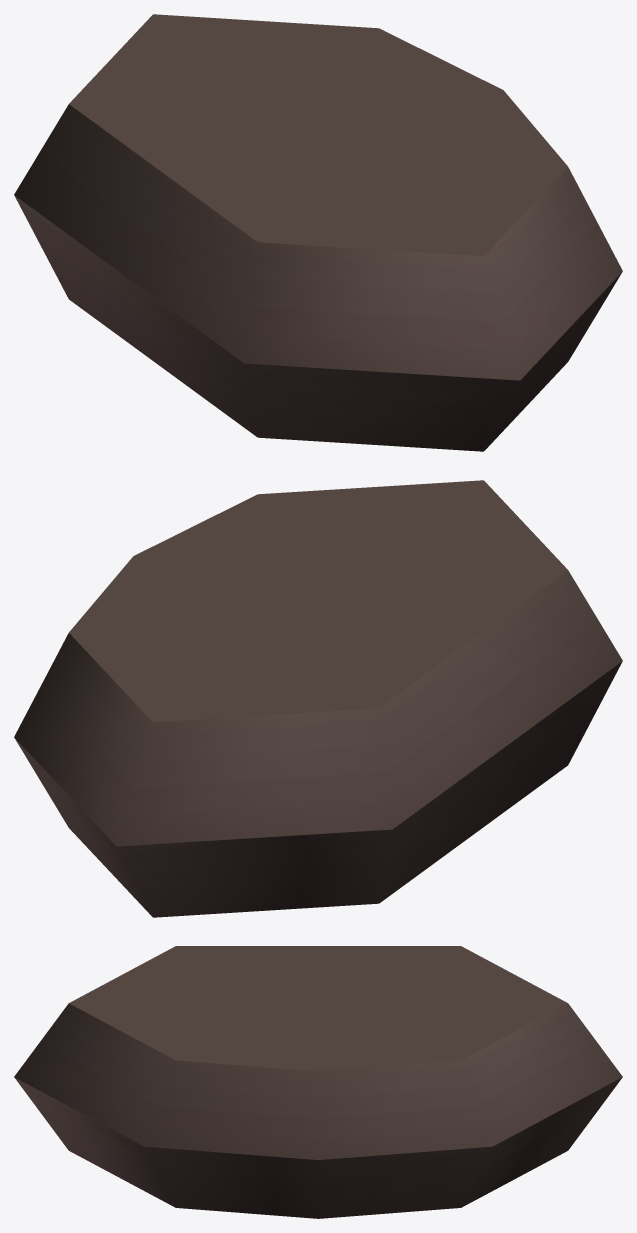
File: kenney-food-mussel.glb
3 renders of one model, top to bottom at view 1: azimuth 30°, elevation 25°; view 2: azimuth 150°, elevation 25°; view 3: azimuth 270°, elevation 25°, orthographic. The views are drawn at different scales.
Visible parts, largest first — view 1: mussel; view 2: mussel; view 3: mussel.
Boxes of the visible parts, bbox=[...] form: mussel: bbox=[14, 14, 622, 451]; mussel: bbox=[14, 480, 622, 917]; mussel: bbox=[14, 946, 622, 1218].
Bounding box in the file's own units: 0.0923 × 0.0415 × 0.1554.
Materials: 1 (1 with a texture image).
